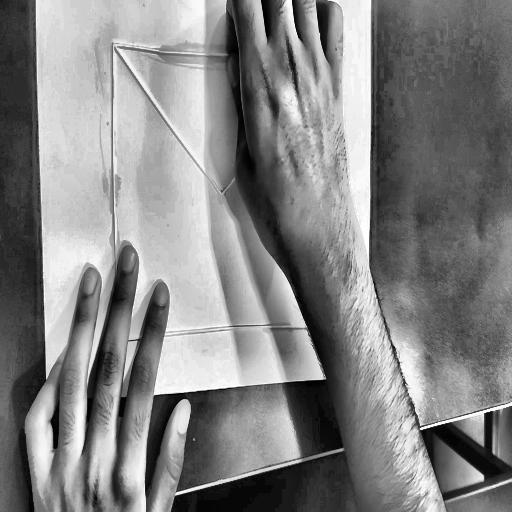bottom_left: (47, 395, 51, 402)
bottom_right: (366, 370, 370, 377)
envelop: (108, 36, 347, 348)
